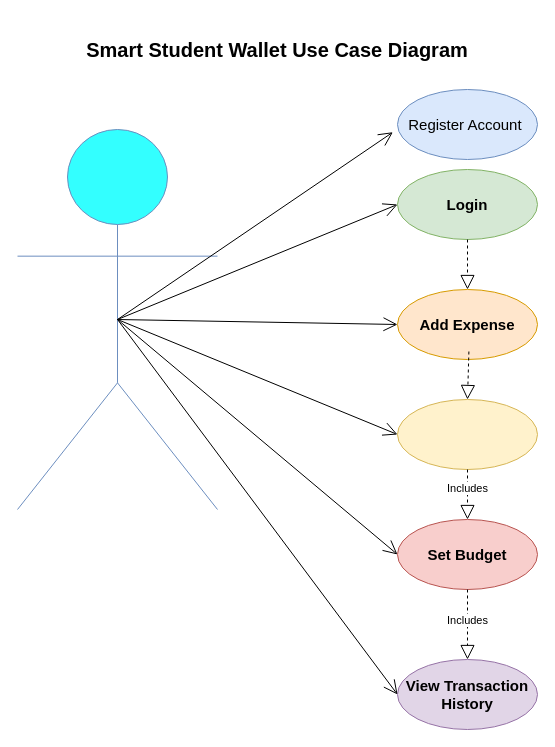
Image size: 555x747. Some labels were removed from this diagram. The shapes that lost their labels are listed below. From the top down, each one's centre as x and y in pixels, then its label:
At [117,319]: "STUDENT".
At [467,434]: "View Dashboard".
